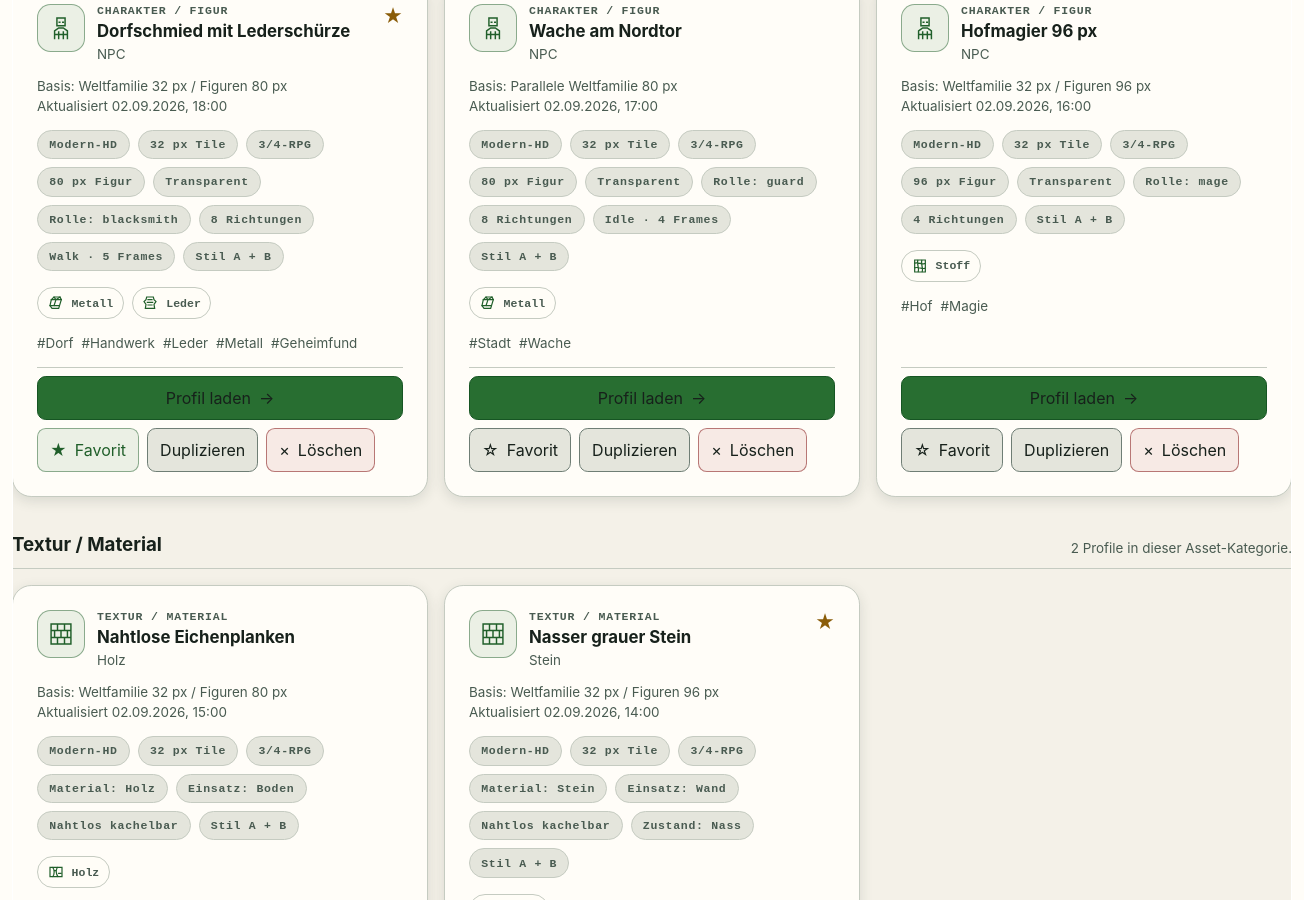
Test: profile library user flows › duplicates an asset profile in place with a fresh identity
(page scrolled)
Step 1. Click the button with aria-label "Profil „Dorfschmied mit Lederschürze“ duplizieren" → x=203, y=450, box [147, 428, 258, 472]
(page scrolled)
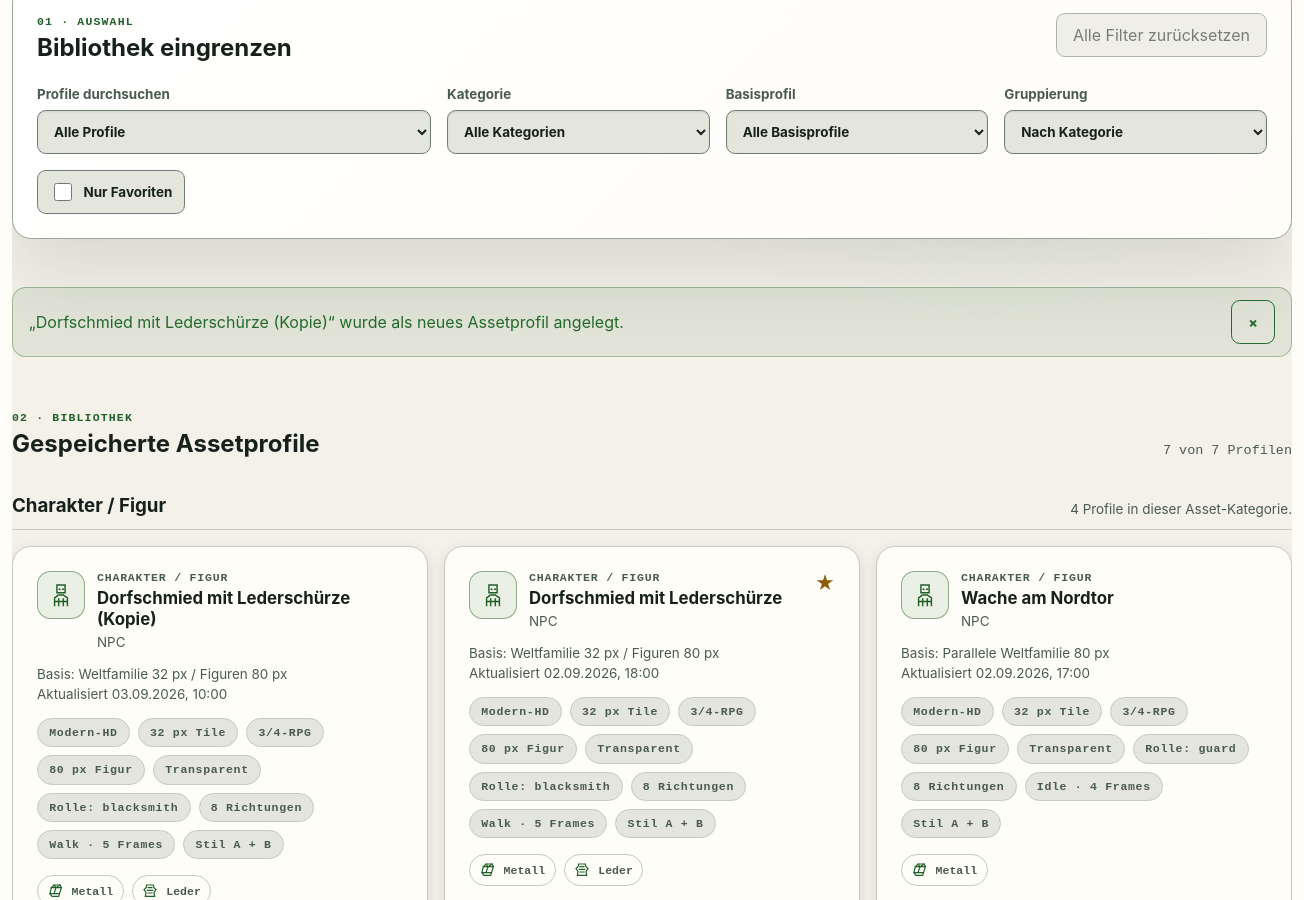
Now the text "7 von 7 Profilen" is shown, box [1163, 443, 1292, 458]
